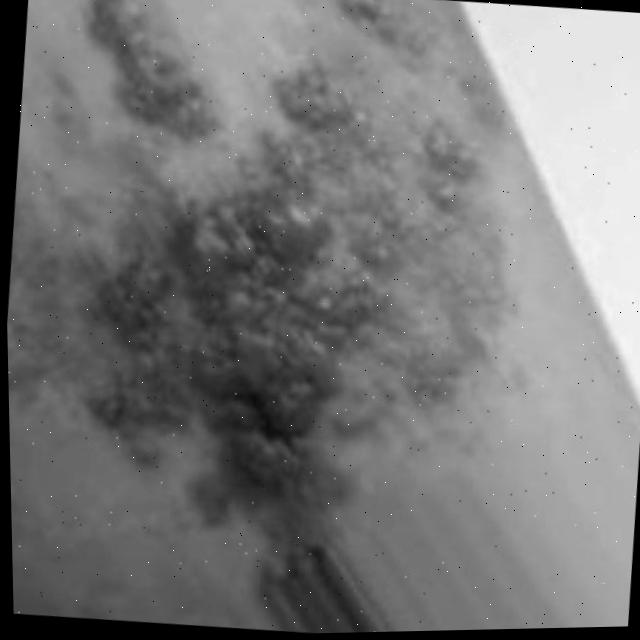Shingles: (5, 0, 513, 548)
